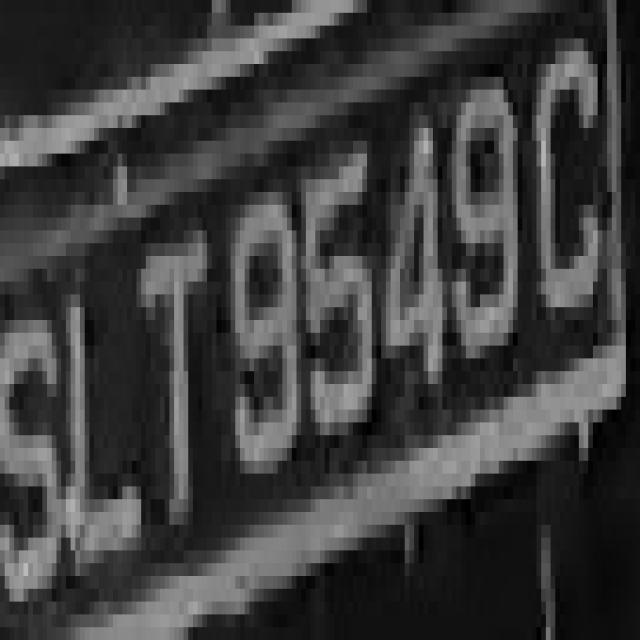4: (372, 90, 456, 422)
5: (287, 128, 391, 474)
9: (207, 179, 306, 499), (433, 77, 527, 397)
C: (522, 38, 622, 410)
L: (57, 307, 141, 589)
S: (0, 307, 61, 627)
T: (141, 205, 221, 563)
